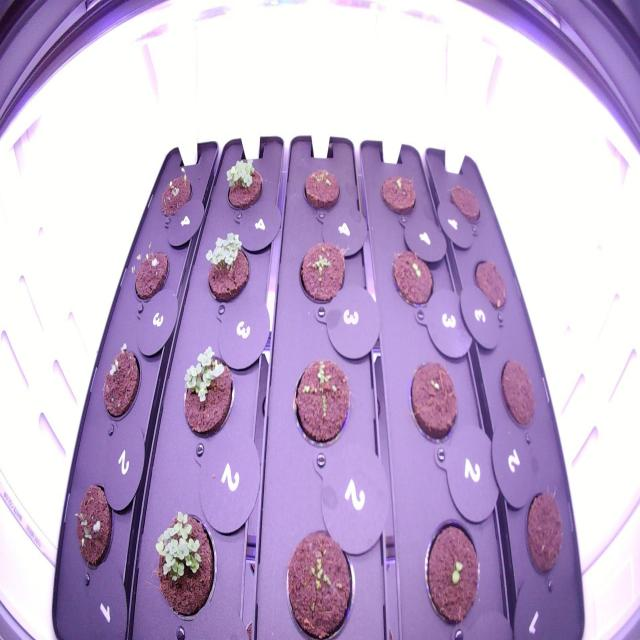germination: (146, 502, 223, 628), (278, 523, 359, 639), (418, 510, 486, 634), (288, 346, 355, 453), (174, 341, 237, 445), (404, 354, 462, 454), (70, 473, 116, 578), (198, 222, 252, 308), (292, 233, 348, 310), (123, 231, 174, 310), (385, 243, 439, 316), (99, 337, 142, 428), (217, 147, 267, 217), (151, 160, 196, 224), (376, 165, 424, 221), (296, 158, 342, 216)
pod: (515, 478, 570, 585), (492, 351, 545, 437), (466, 250, 512, 312), (446, 168, 487, 232)
